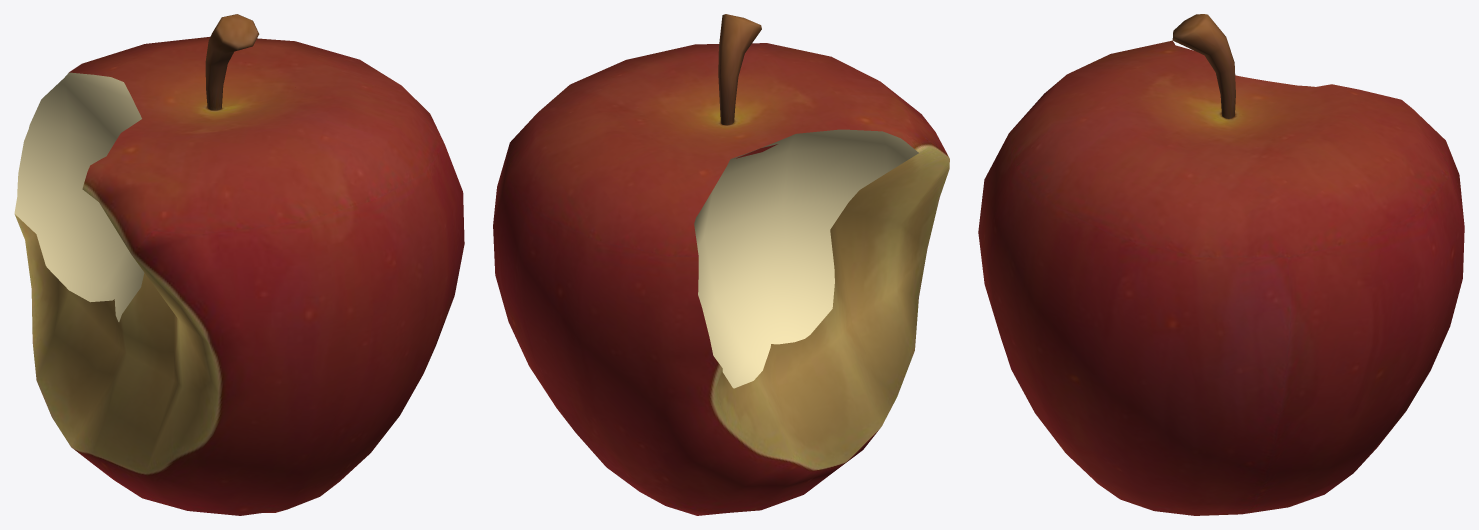
The model's file is apple-eaten-2.glb.
The picture shows the model from 3 angles, left to right: view 1: azimuth 30°, elevation 25°; view 2: azimuth 150°, elevation 25°; view 3: azimuth 270°, elevation 25°; orthographic projection. The views are drawn at different scales.
Parts seen in each view (by area): view 1: apple-eaten-2; view 2: apple-eaten-2; view 3: apple-eaten-2.
Part boxes in pixels (<box>): apple-eaten-2: <box>14,14,464,515</box>; apple-eaten-2: <box>493,14,949,515</box>; apple-eaten-2: <box>978,14,1464,515</box>.
Size of the model in its own units: 0.8351 by 1 by 0.9276.
2 materials, 1 textured.
